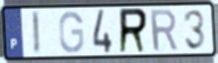3: (182, 8, 207, 50)
4: (92, 8, 115, 56)
G: (58, 10, 86, 55)
I: (30, 9, 42, 56)
R: (117, 7, 149, 56), (148, 7, 180, 54)
